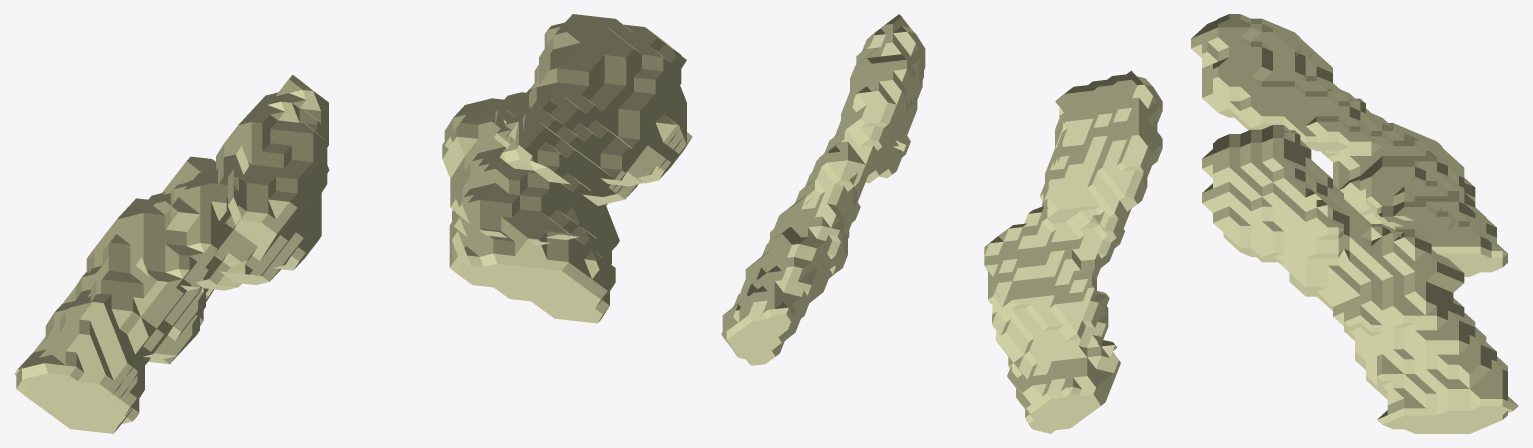
The model's file is region_0007_BSTa__bed_nucleus_of_the_stria_terminalis__anterior_division_.glb.
The picture shows the model from 3 angles, left to right: view 1: azimuth 30°, elevation 25°; view 2: azimuth 150°, elevation 25°; view 3: azimuth 270°, elevation 25°; orthographic projection. The views are drawn at different scales.
Visible parts, largest first — view 1: world; view 2: world; view 3: world.
Part boxes in pixels (x1=…): world: x1=14, y1=14, x2=692, y2=433; world: x1=721, y1=14, x2=1162, y2=433; world: x1=1191, y1=14, x2=1518, y2=433.
Size of the model in its own units: 0.328 by 0.216 by 0.24.
